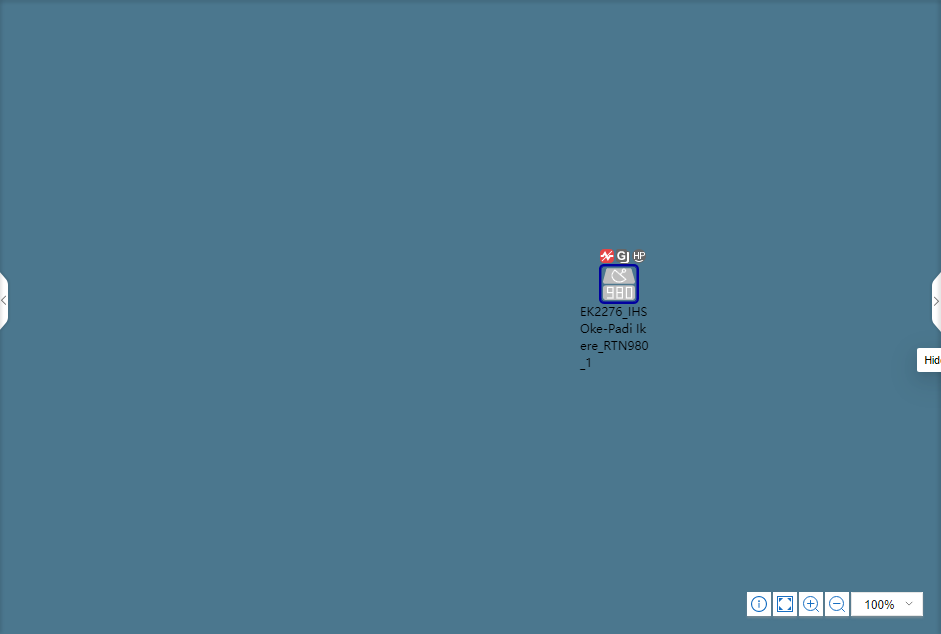RTN_Gray: (600, 267, 637, 302)
